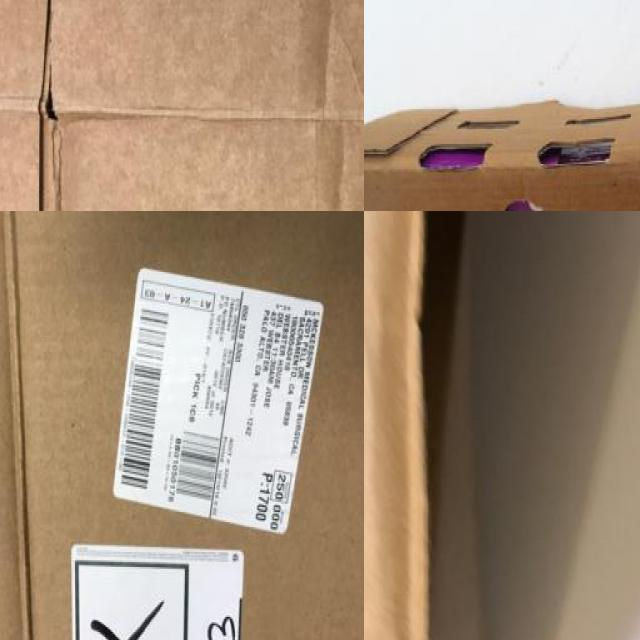class_name: (0, 211, 364, 640), (0, 0, 364, 211), (364, 211, 494, 640), (364, 79, 640, 211)
